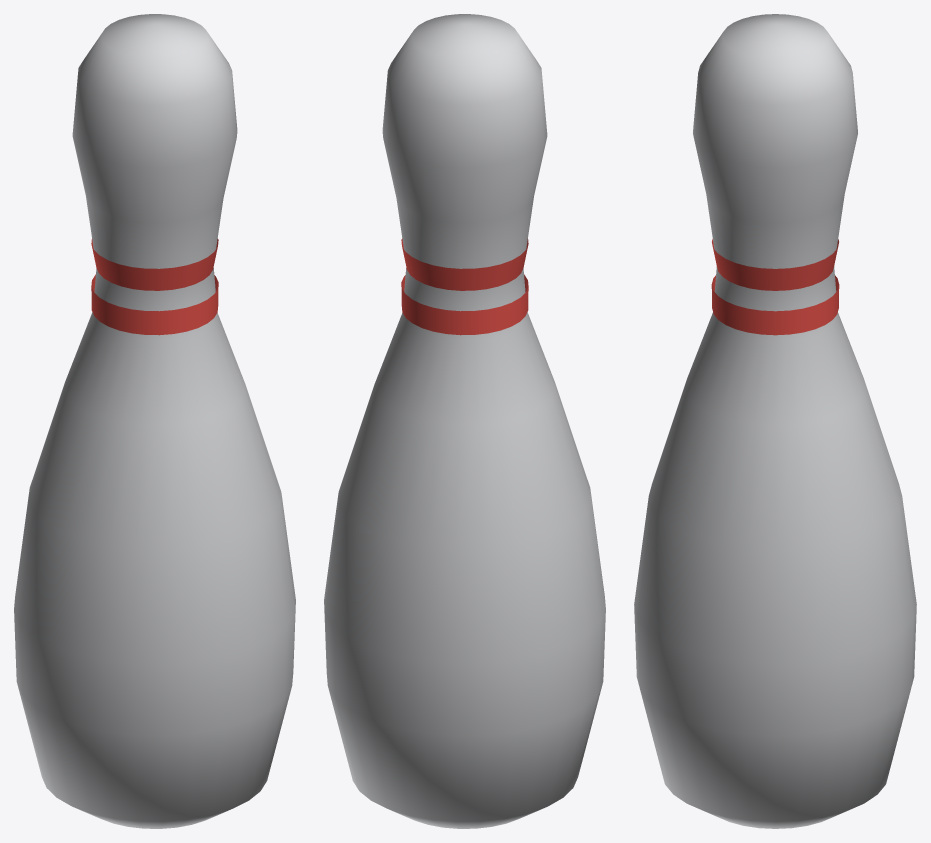
Rendered from bowling_pin.glb.
3 renders of one model, left to right at view 1: azimuth 30°, elevation 25°; view 2: azimuth 150°, elevation 25°; view 3: azimuth 270°, elevation 25°, orthographic.
Visible parts, largest first — view 1: bowling_pin; view 2: bowling_pin; view 3: bowling_pin.
Part boxes in pixels (x1,y1,x2,y2): bowling_pin: (14, 14, 295, 828); bowling_pin: (324, 14, 605, 828); bowling_pin: (634, 14, 916, 828).
Size of the model in its own units: 0.212 by 0.64 by 0.212.
